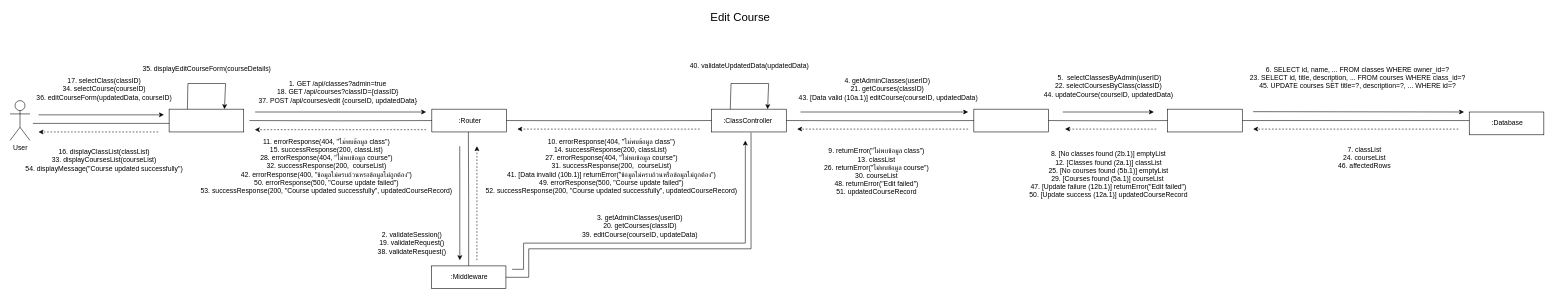
This 1554x299 diagram has some shape labels left out. Here are the shapes that lost their labels. From the top down, the centre of each, then its label:
point 206,120: :Frontend
point 1010,120: :ClassService
point 1204,120: :ClassRepository
